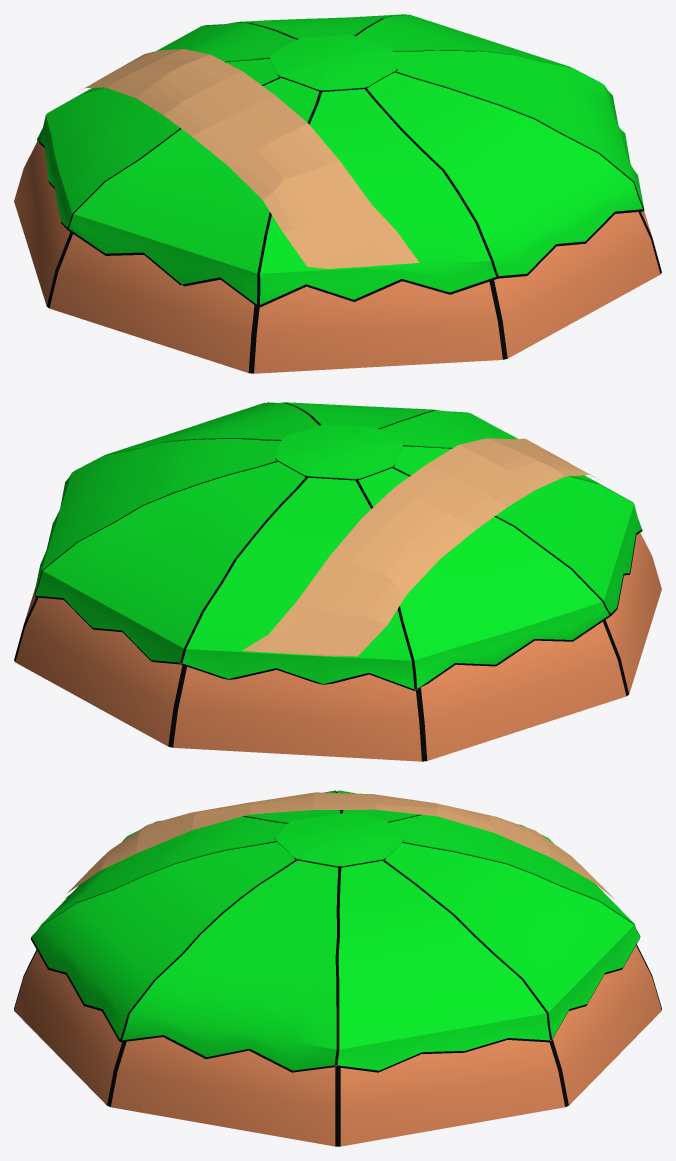
The model's file is PlatformWithPath01.fbx.
3 views of the same model, one above another, from view 1: azimuth 30°, elevation 25°; view 2: azimuth 150°, elevation 25°; view 3: azimuth 270°, elevation 25° (orthographic). The views are drawn at different scales.
Parts seen in each view (by area): view 1: SmallHill01.001; view 2: SmallHill01.001; view 3: SmallHill01.001.
Boxes of the visible parts, x1,y1,x2,y2 form: SmallHill01.001: (14,14,661,373); SmallHill01.001: (14,402,661,761); SmallHill01.001: (14,790,661,1146).
Size of the model in its own units: 1322 by 388 by 1322.
